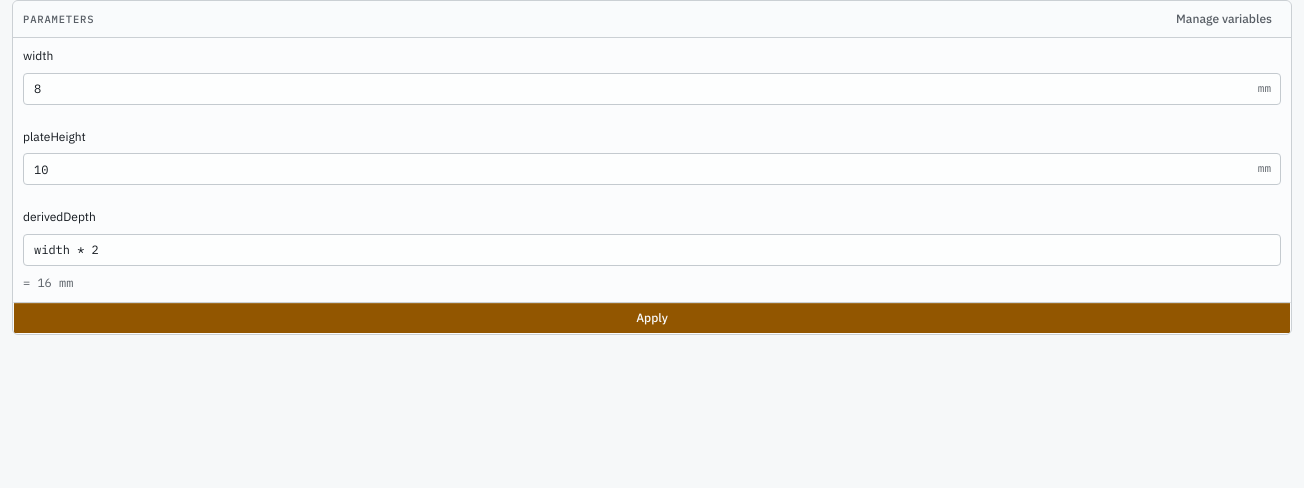
Test: CadParameterManager dependency graph › renders direct references and reference counts
What coordinates should you click on to do the following:
click the button "Manage variables"
I would click on:
 (1224, 19)
Its box is [1167,7,1281,31].
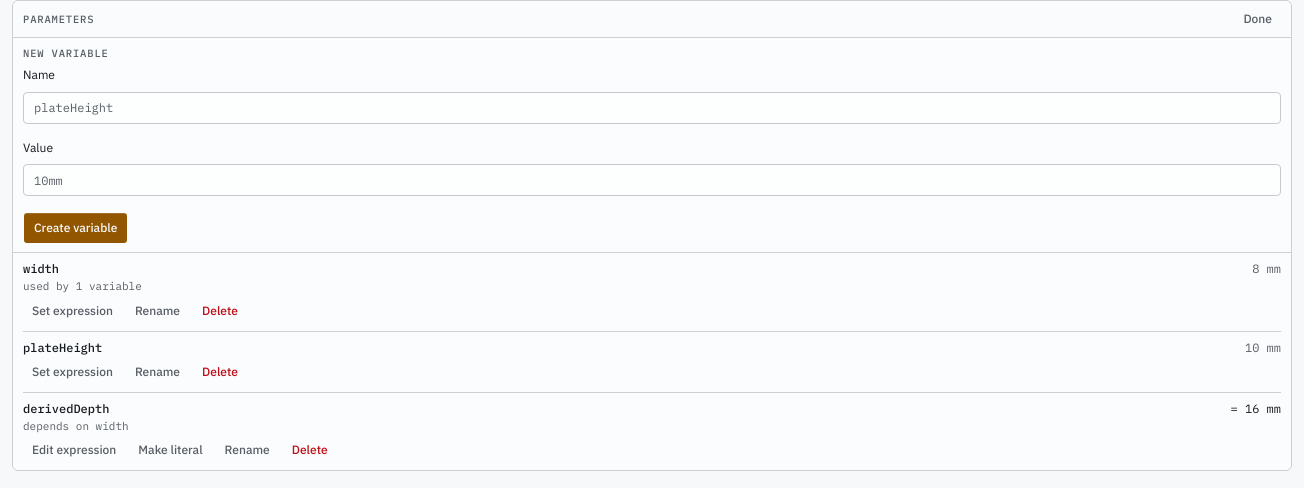
Result: the text "depends on width" is shown at [23,419,129,433]
Result: the text "used by 1 variable" is shown at [23,279,142,293]
